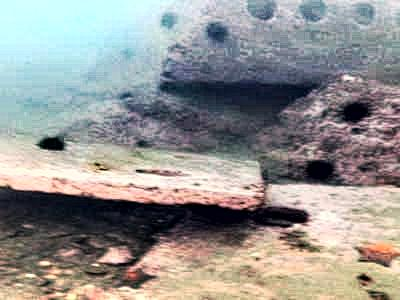urchin: (37, 134, 67, 153), (343, 101, 365, 119), (310, 160, 332, 175)
